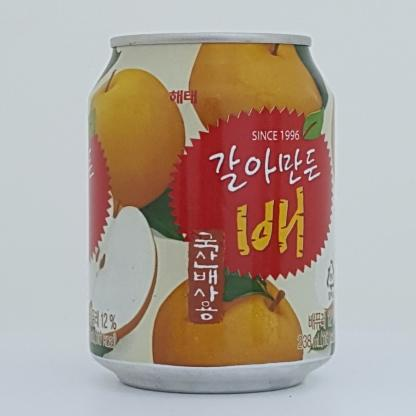-------238ML: (87, 32, 336, 394)
